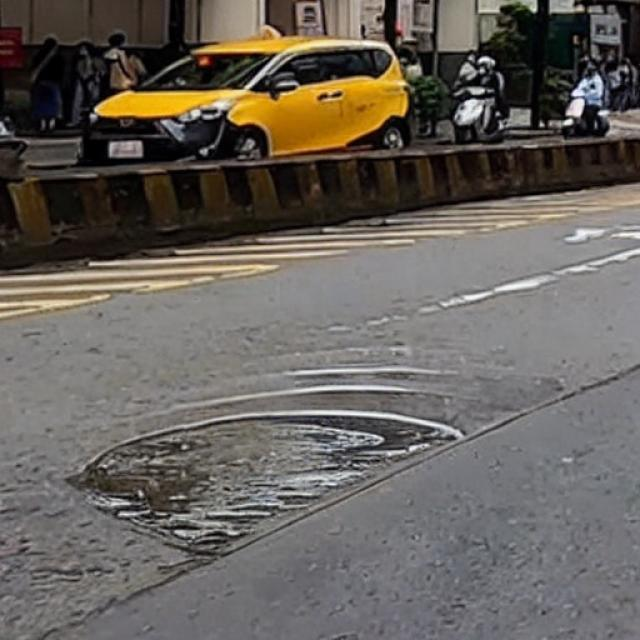puddle: (82, 412, 460, 552)
